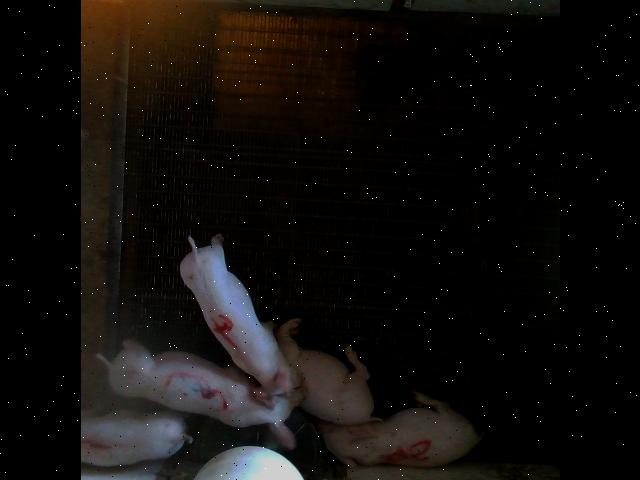pig-1: (81, 410, 192, 465)
pig-3: (97, 340, 301, 450)
pig-4: (179, 238, 296, 400)
pig-5: (313, 391, 482, 468)
